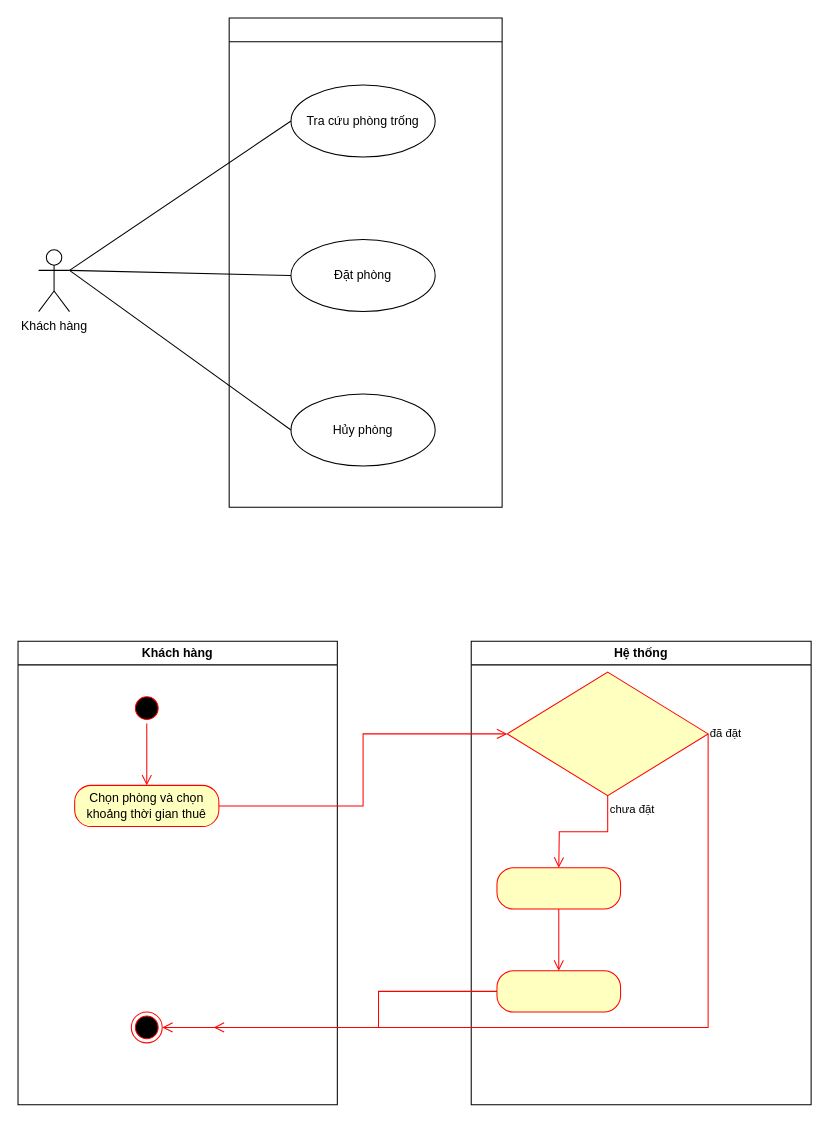
The diagram is 829 pixels wide and 1123 high, and some of its shapes have lost their labels. The shapes that lost their labels are listed below. From the top down, each one's centre as x and y in pixels, then its label:
At point (365, 262): "Quản lý đặt phòng".
At point (607, 733): "Check thông tin phòng có ai đặt chưa".
At point (558, 888): "Tạo mã đặt phòng".
At point (558, 991): "Lưu thông tin người dùng".
